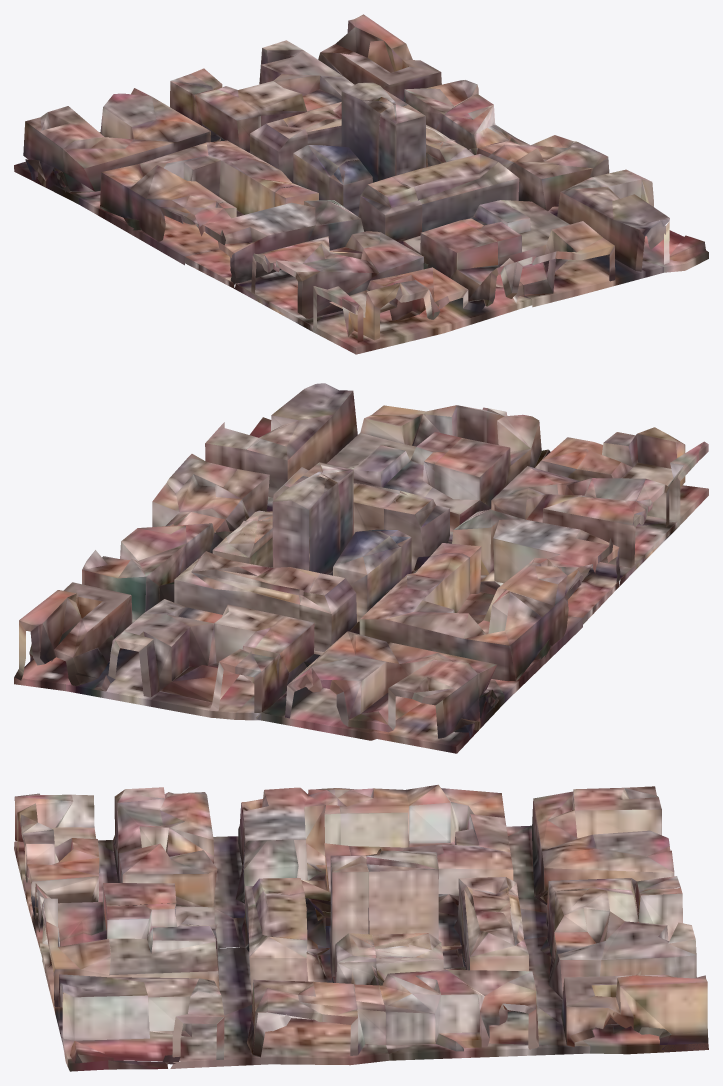
3 renders of one model, top to bottom at view 1: azimuth 30°, elevation 25°; view 2: azimuth 150°, elevation 25°; view 3: azimuth 270°, elevation 25°, orthographic. The views are drawn at different scales.
Parts seen in each view (by area): view 1: Mesh_0; view 2: Mesh_0; view 3: Mesh_0.
Boxes of the visible parts, x1,y1,x2,y2 form: Mesh_0: [14, 14, 708, 354]; Mesh_0: [14, 383, 708, 753]; Mesh_0: [14, 784, 708, 1071].
Bounding box in the file's own units: 266 × 74.45 × 330.
1 material, 1 textured.
